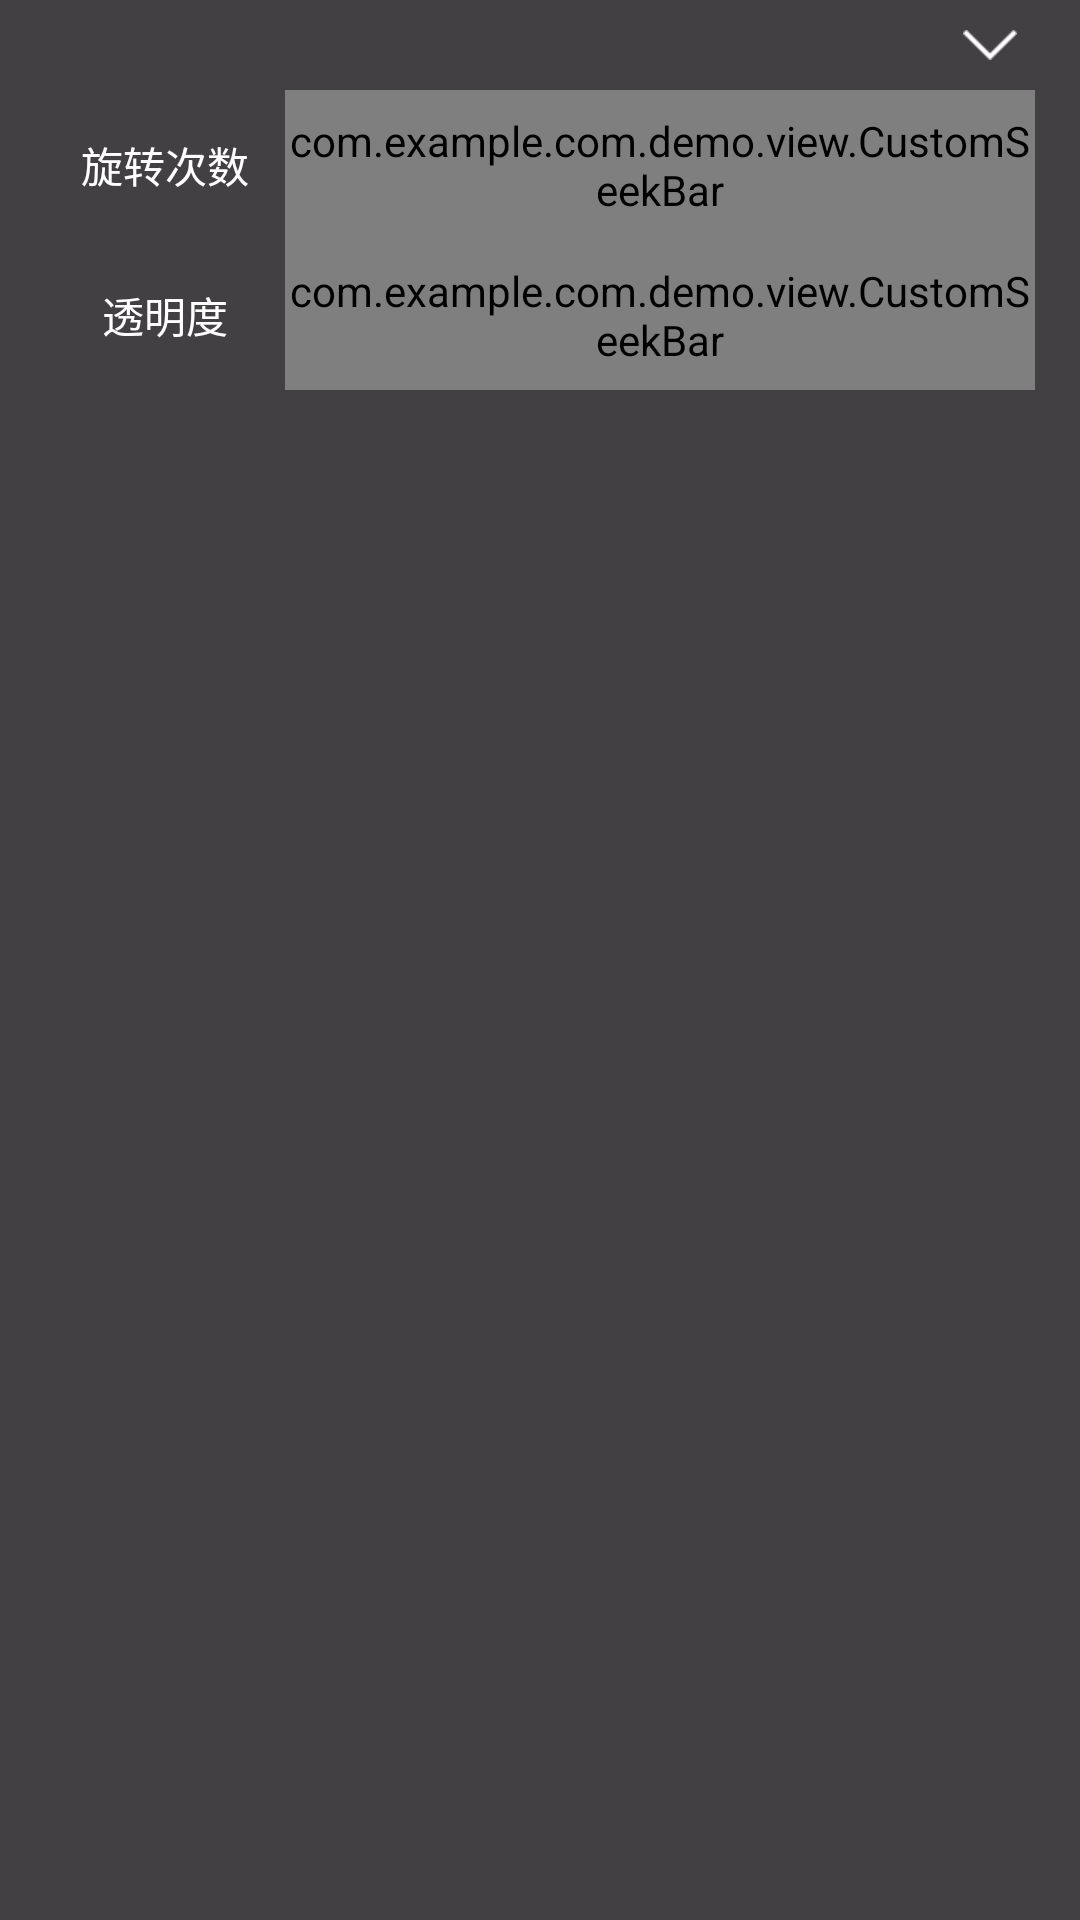

Icons on this 1080px x 1920px Android screen, each with the point to tap as (x,y):
homepage parameter collapse: (990,45)
